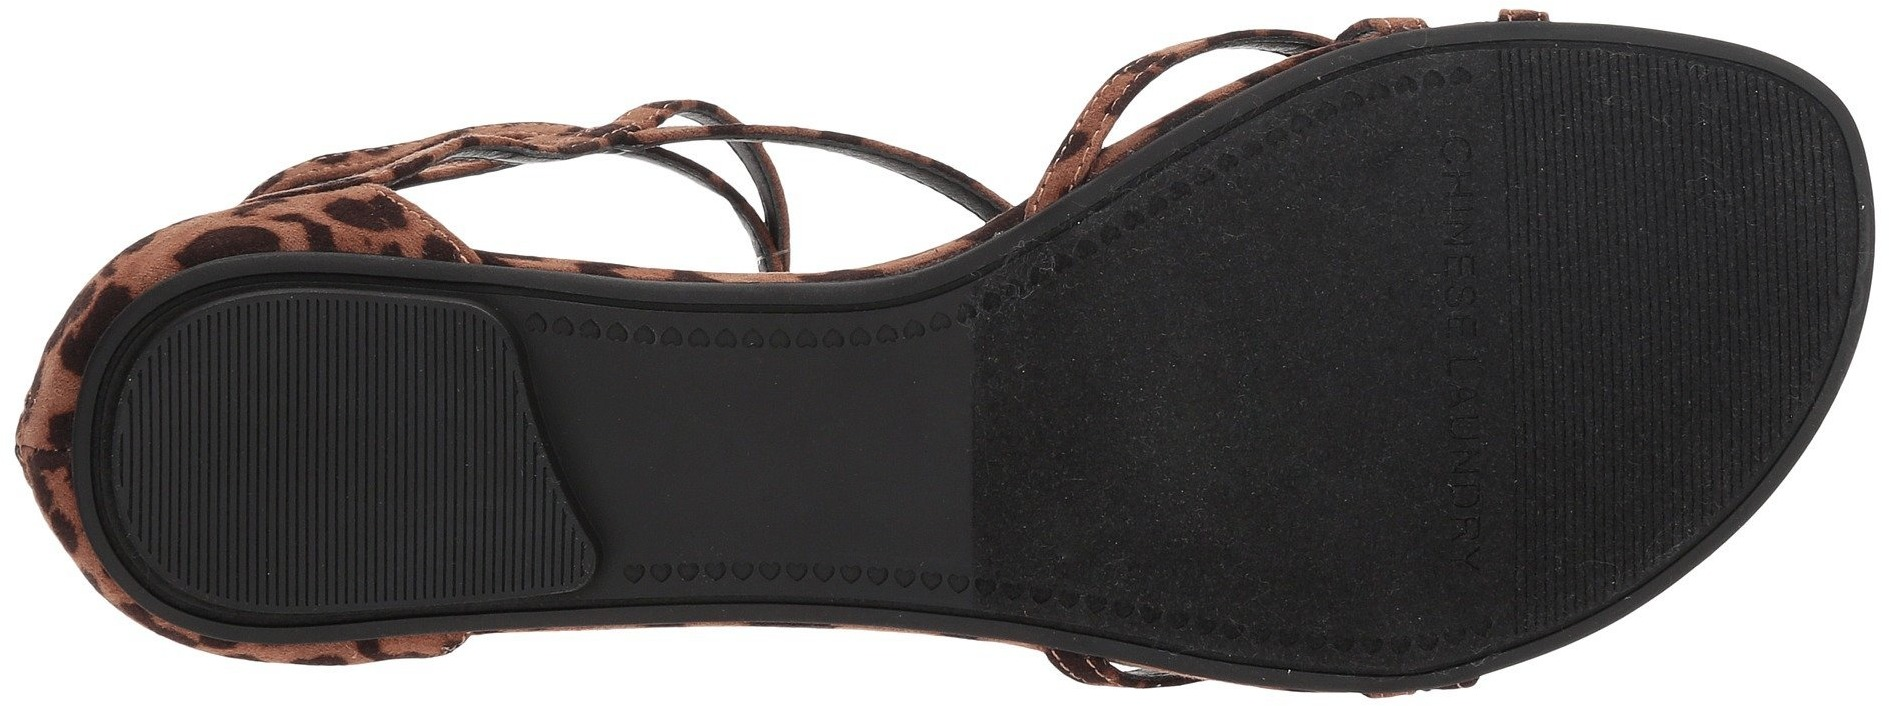other: (1012, 301, 1232, 510), (1510, 71, 1726, 275), (1516, 290, 1722, 486), (151, 357, 346, 558), (1242, 372, 1438, 560), (1260, 167, 1437, 351), (358, 417, 532, 586)
